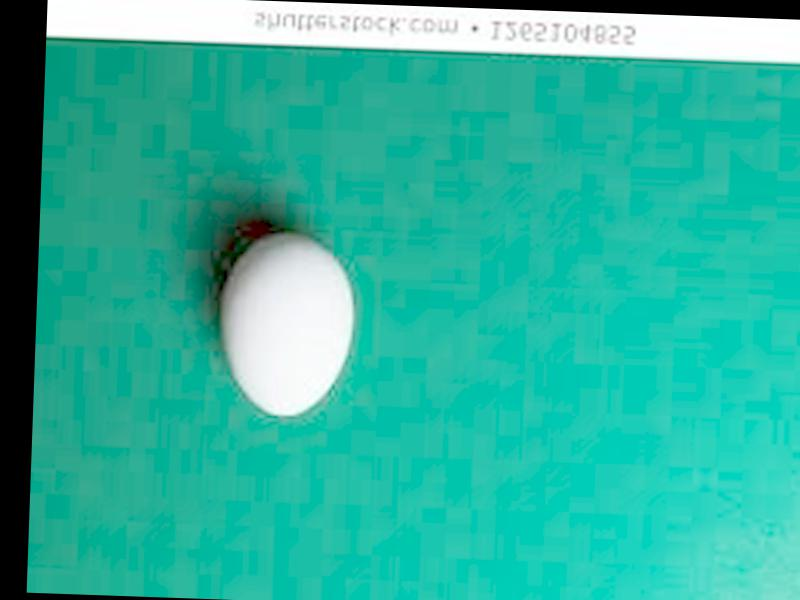Eggs: (223, 232, 361, 417)
